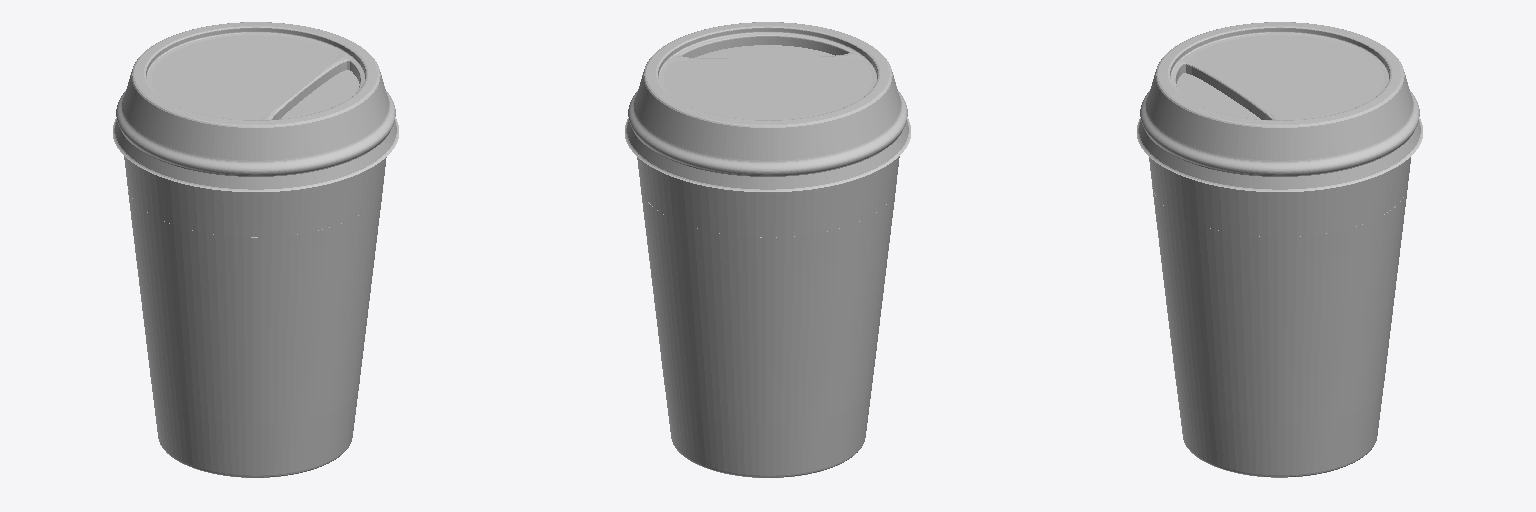
3 renders of one model, left to right at view 1: azimuth 30°, elevation 25°; view 2: azimuth 150°, elevation 25°; view 3: azimuth 270°, elevation 25°, orthographic.
Parts seen in each view (by area): view 1: coffee_cup_Cylinder.007; view 2: coffee_cup_Cylinder.007; view 3: coffee_cup_Cylinder.007.
Part boxes in pixels (left/top/right/bottom): coffee_cup_Cylinder.007: left=113, top=22, right=398, bottom=477; coffee_cup_Cylinder.007: left=625, top=22, right=910, bottom=477; coffee_cup_Cylinder.007: left=1137, top=22, right=1422, bottom=477.
Size of the model in its own units: 0.5217 by 0.7324 by 0.5217.